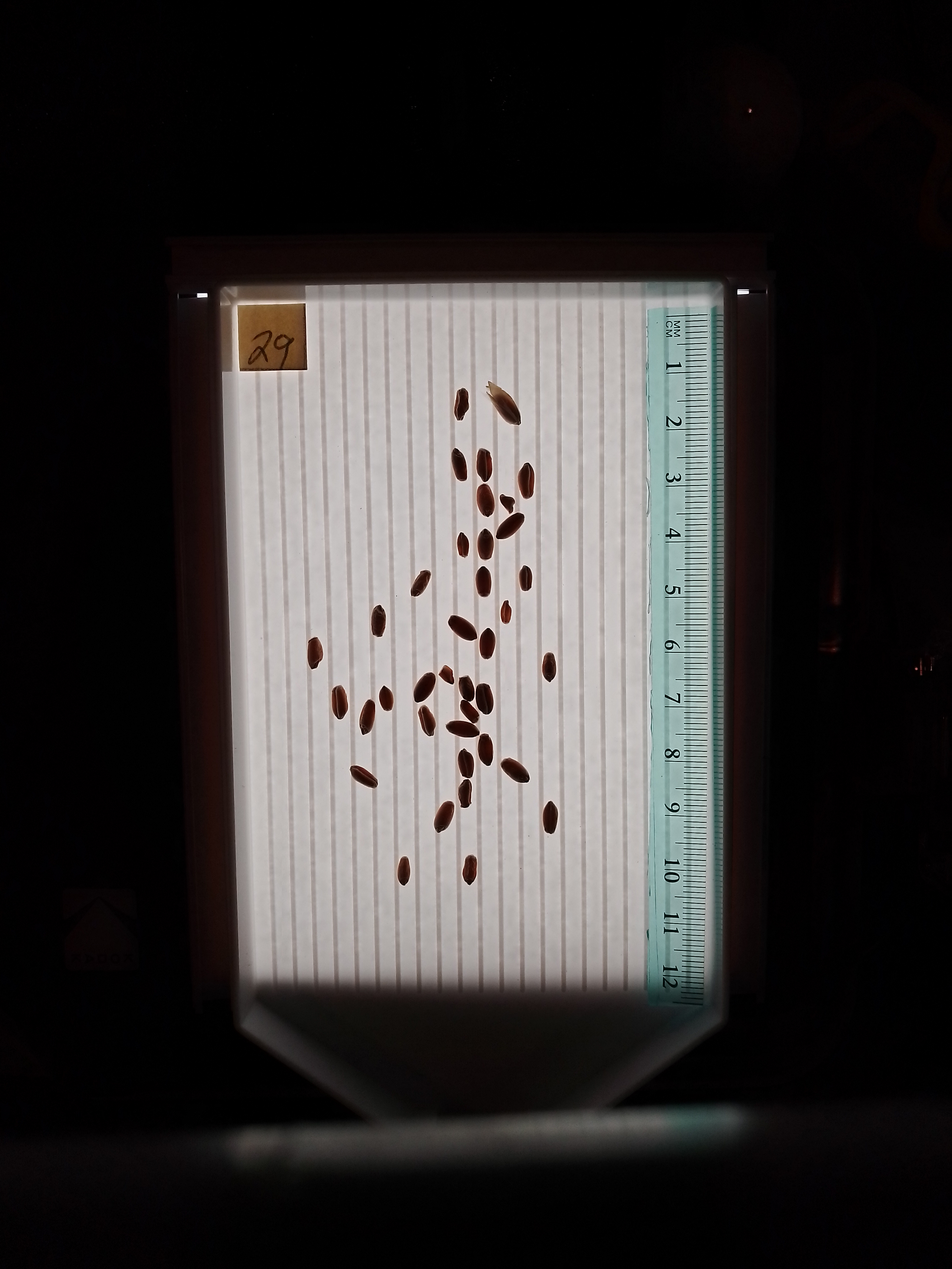seed mask: (486, 382, 520, 425), (497, 514, 524, 540), (501, 758, 529, 783), (449, 616, 476, 641), (433, 801, 454, 832), (351, 765, 377, 788), (414, 674, 435, 702), (518, 464, 535, 498), (446, 720, 478, 738), (418, 706, 436, 736), (359, 700, 375, 733), (332, 686, 348, 719), (477, 485, 494, 516), (411, 570, 431, 596), (476, 684, 493, 714), (452, 449, 468, 480), (371, 605, 386, 637), (307, 638, 323, 668), (543, 802, 558, 833), (478, 530, 494, 559), (454, 389, 469, 419), (477, 449, 492, 479), (478, 735, 493, 765), (479, 630, 495, 658), (476, 567, 491, 596), (458, 751, 474, 778), (542, 654, 557, 681), (462, 856, 476, 884), (397, 858, 411, 885), (519, 566, 533, 592), (459, 676, 474, 700), (459, 781, 472, 808), (379, 687, 393, 711), (462, 702, 477, 721), (457, 535, 469, 556), (440, 666, 453, 684), (501, 602, 512, 623), (500, 495, 514, 511)
